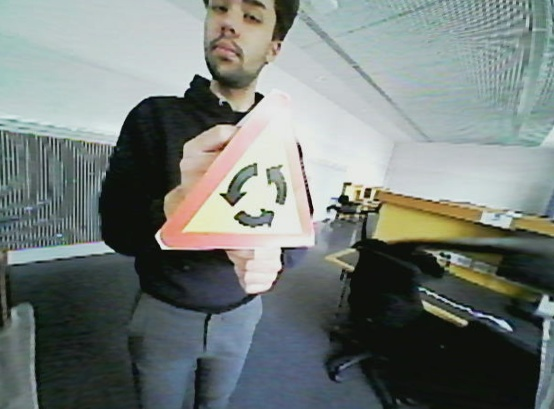roundabout_warning: (152, 88, 331, 254)
